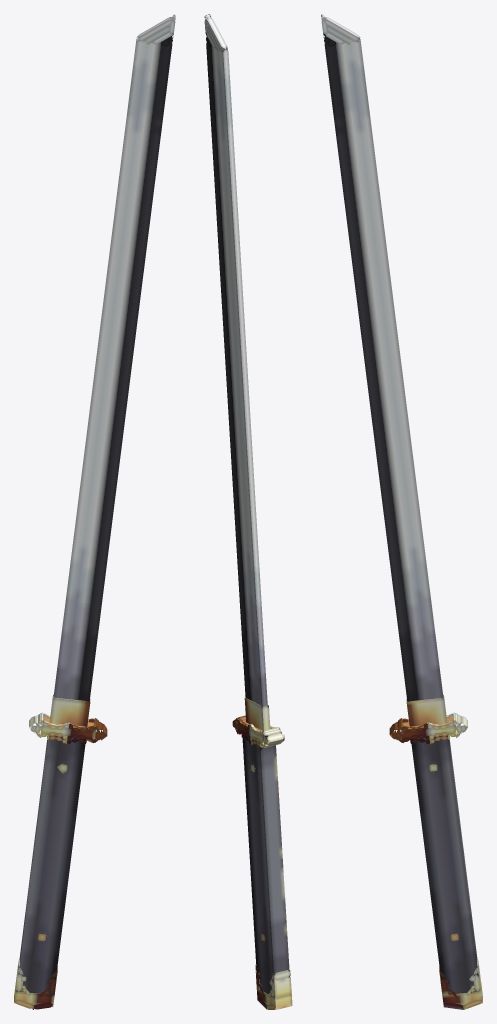
File: uchigatana_1.obj
The picture shows the model from 3 angles, left to right: view 1: azimuth 90°, elevation 25°; view 2: azimuth 210°, elevation 25°; view 3: azimuth 270°, elevation 25°; orthographic projection. The views are drawn at different scales.
Visible parts, largest first — view 1: cube.075; view 2: cube.075; view 3: cube.075.
Part boxes in pixels (bbox=[...]): cube.075: bbox=[14, 14, 175, 1009]; cube.075: bbox=[204, 14, 292, 1009]; cube.075: bbox=[321, 14, 482, 1009].
Size of the model in its own units: 0.0452 by 2.4 by 0.3547.
